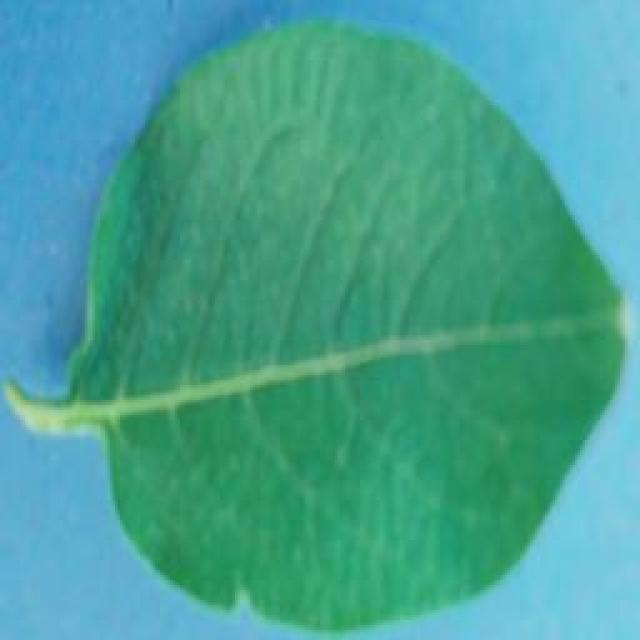Potato_Healthy: (8, 16, 624, 632)
